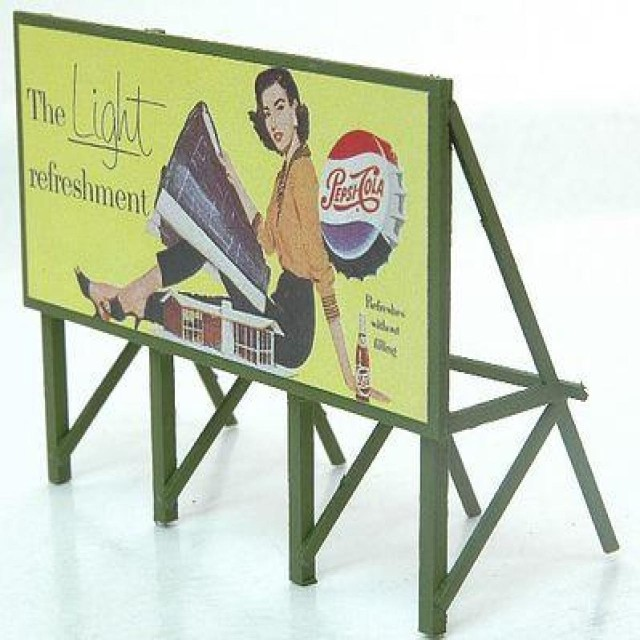pepsi: (316, 129, 392, 262)
